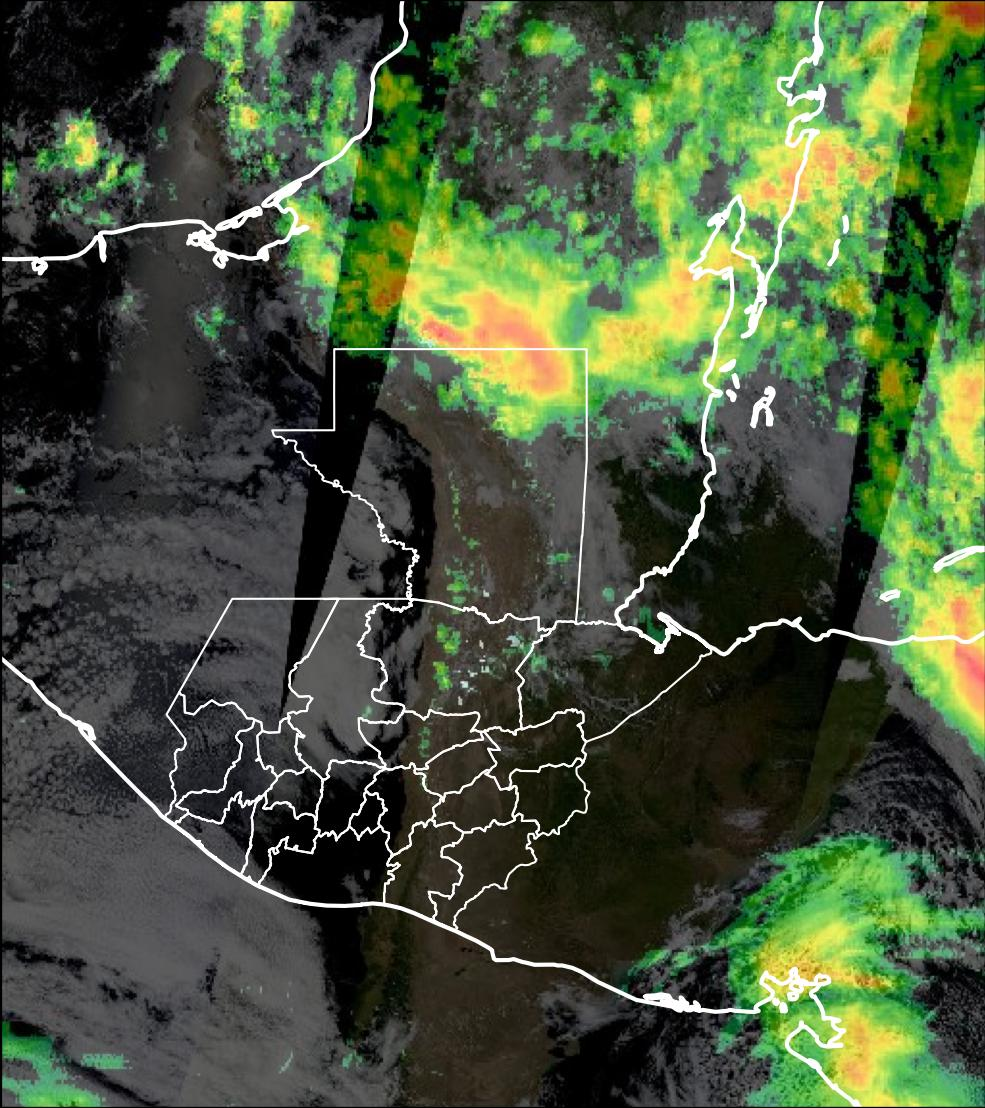precipitacion: (407, 284, 579, 343), (920, 592, 985, 720)
